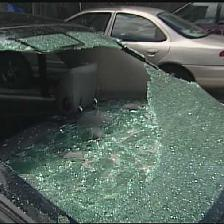broken_glass: (0, 9, 224, 223)
